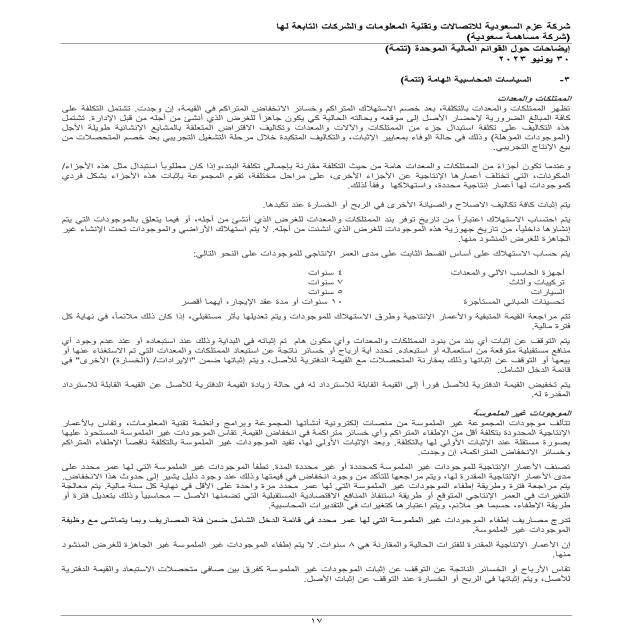notes: (368, 45, 570, 55)
text: (41, 63, 583, 604)
